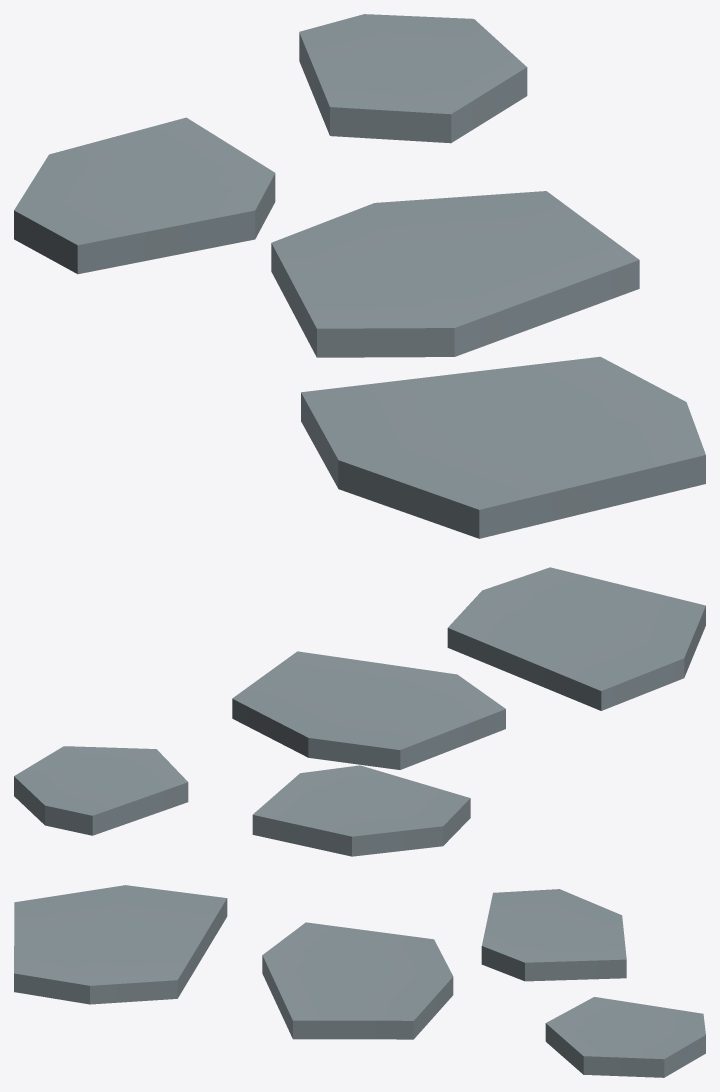
The model's file is rocksPath.fbx.
3 renders of one model, top to bottom at view 1: azimuth 30°, elevation 25°; view 2: azimuth 150°, elevation 25°; view 3: azimuth 270°, elevation 25°, orthographic. The views are drawn at different scales.
Parts seen in each view (by area): view 1: Cube; view 2: Cube; view 3: Cube.
Part boxes in pixels (bbox=[...]): Cube: bbox=[14, 14, 705, 538]; Cube: bbox=[14, 567, 705, 856]; Cube: bbox=[14, 885, 705, 1077].
Bounding box in the file's own units: 640 × 32 × 1074.
Materials: 1 (1 with a texture image).
